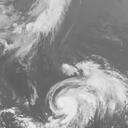cyclone: (48, 78, 101, 126)
